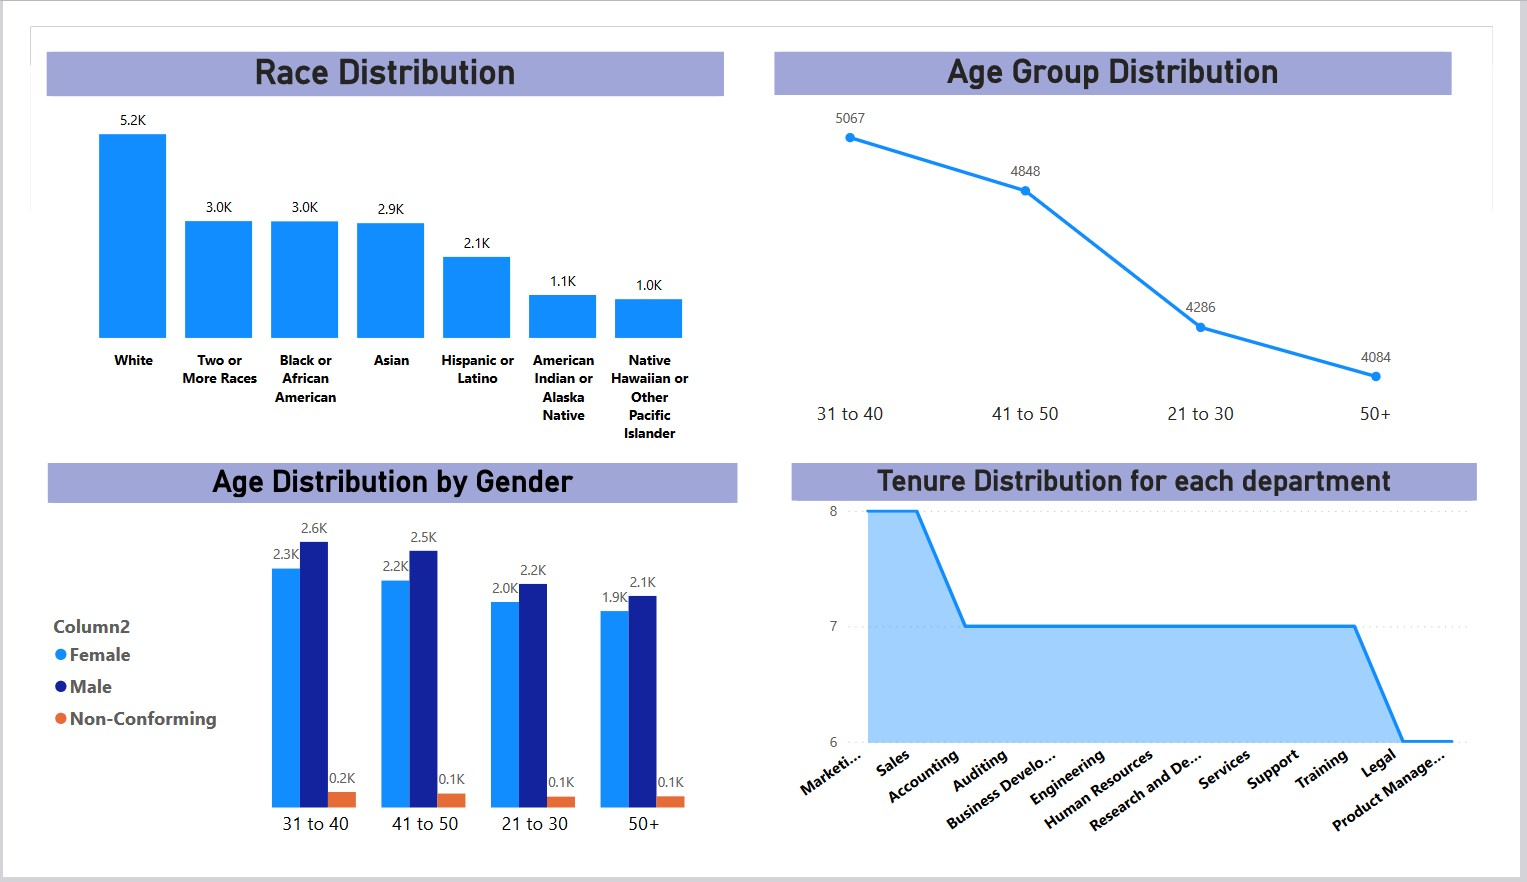

The page's visual inventory and layout, read from the dashboard file:
{"tool":"powerbi","page":{"name":"Page 2","canvas":[1280,720],"ordinal":1},"visuals":[{"type":"clusteredColumnChart","title":"Race Distribution","fields":{"Y":["Sum(race distribution in the company.Column2)"],"Category":["race distribution in the company.Column1"]},"box":[13.7,22,592.8,349.9],"z":0},{"type":"lineChart","title":"Age Group Distribution","fields":{"Category":["Age Group.Column1"],"Y":["Sum(Age Group.Column2)"]},"box":[651.1,21.9,592.6,338],"z":1000},{"type":"clusteredColumnChart","title":"Age Distribution by Gender","fields":{"Y":["Sum(Age group by gender.Column3)"],"Category":["Age group by gender.Column1"],"Series":["Age group by gender.Column2"]},"box":[14.6,381.9,604.3,338],"z":2000},{"type":"areaChart","title":"Tenure Distribution for each department","fields":{"Category":["tenure distribution for each department.Column1"],"Y":["Sum(tenure distribution for each department.Column2)"]},"box":[665.8,381.9,599.9,338],"z":2001}]}

Visuals, with their boxes in screenshot pixels (x1, y1, x2, y2), scaled from the page's 1280x720 canvas onto the 1527x882 screenshot:
"Race Distribution" clusteredColumnChart: BBox(16, 27, 724, 456)
"Age Group Distribution" lineChart: BBox(777, 27, 1484, 441)
"Age Distribution by Gender" clusteredColumnChart: BBox(17, 468, 738, 881)
"Tenure Distribution for each department" areaChart: BBox(794, 468, 1510, 881)
